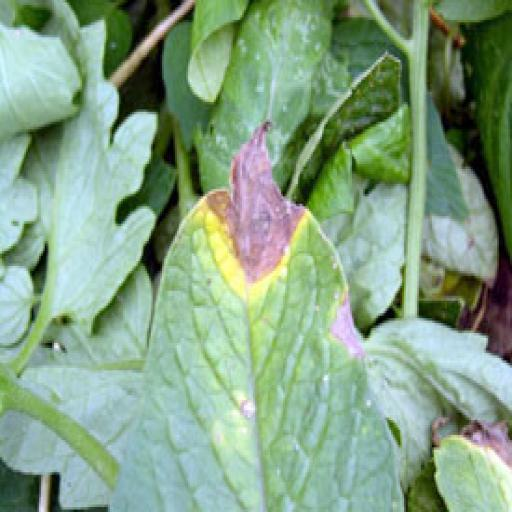disease_tomato: (106, 114, 417, 512)
